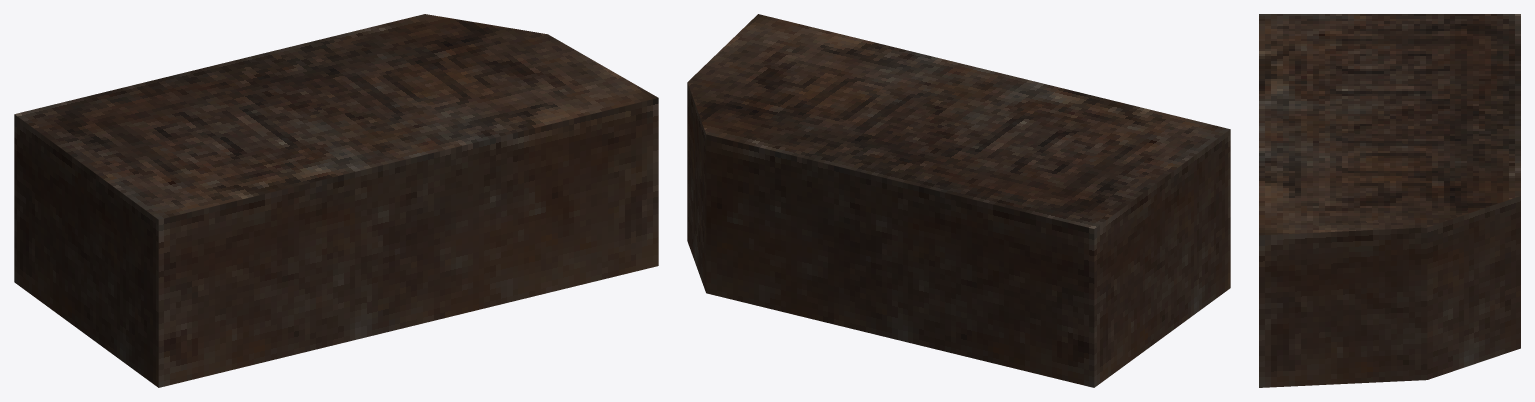
The model's file is brick_mx_4_0.glb.
3 views of the same model, side by side, from view 1: azimuth 30°, elevation 25°; view 2: azimuth 150°, elevation 25°; view 3: azimuth 270°, elevation 25° (orthographic). The views are drawn at different scales.
Parts seen in each view (by area): view 1: brick_mx_4_0; view 2: brick_mx_4_0; view 3: brick_mx_4_0.
Part boxes in pixels (x1,y1,x2,y2): brick_mx_4_0: [14, 14, 658, 387]; brick_mx_4_0: [687, 14, 1230, 387]; brick_mx_4_0: [1259, 14, 1520, 387].
Bounding box in the file's own units: 0.28 × 0.09 × 0.14.
Materials: 1 (1 with a texture image).
